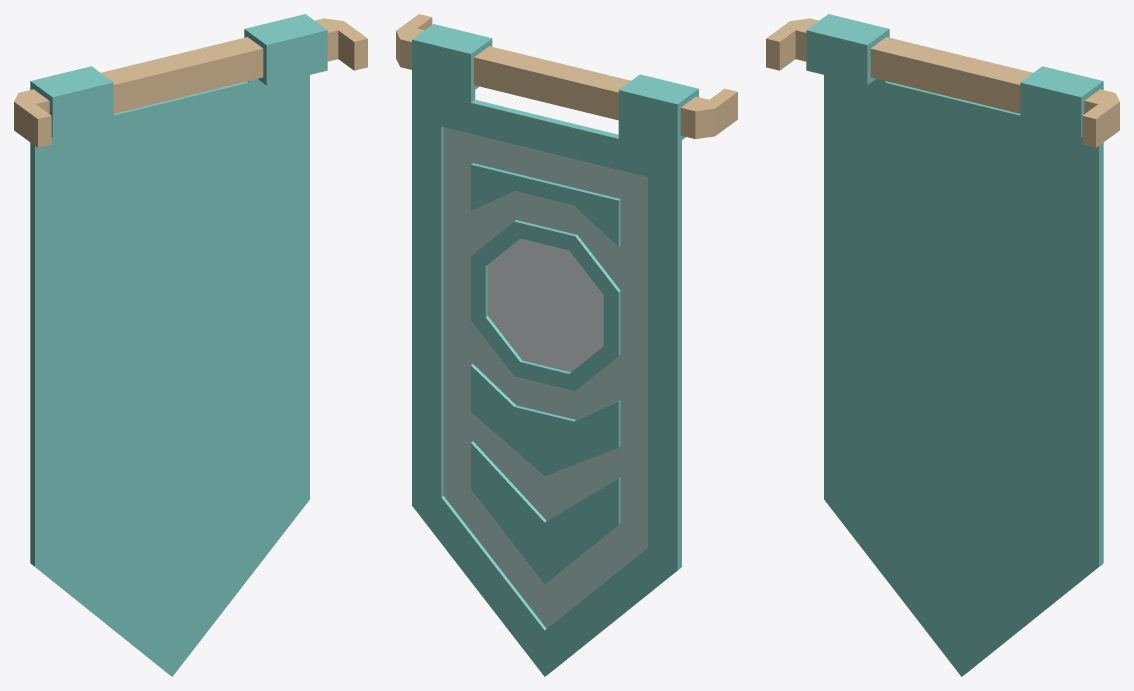
File: Prop_Flag_Sun.glb
3 views of the same model, side by side, from view 1: azimuth 30°, elevation 25°; view 2: azimuth 150°, elevation 25°; view 3: azimuth 330°, elevation 25° (orthographic). The views are drawn at different scales.
Visible parts, largest first — view 1: Prop_Flag_Sun; view 2: Prop_Flag_Sun; view 3: Prop_Flag_Sun.
Part boxes in pixels (x1,y1,x2,y2): Prop_Flag_Sun: (14, 14, 367, 676); Prop_Flag_Sun: (396, 14, 737, 676); Prop_Flag_Sun: (766, 14, 1119, 676).
Bounding box in the file's own units: 0.54 × 0.979 × 0.099.
